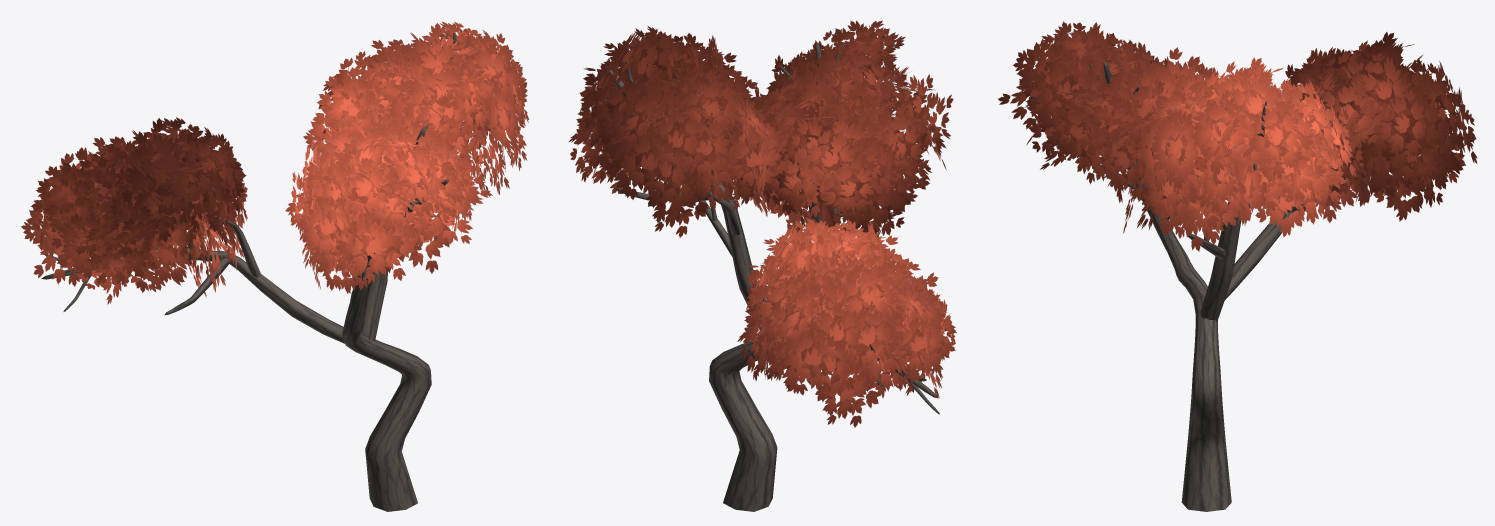
Rendered from MapleTree_2.glb.
3 views of the same model, side by side, from view 1: azimuth 30°, elevation 25°; view 2: azimuth 150°, elevation 25°; view 3: azimuth 270°, elevation 25° (orthographic). The views are drawn at different scales.
Visible parts, largest first — view 1: MapleTree_2; view 2: MapleTree_2; view 3: MapleTree_2.
Part boxes in pixels (box(x1,y1,x2,y2)): MapleTree_2: box(21, 21, 529, 511); MapleTree_2: box(568, 20, 956, 511); MapleTree_2: box(998, 21, 1477, 511).
Bounding box in the file's own units: 6.7 × 6.71 × 6.24.
2 materials, 2 textured.
